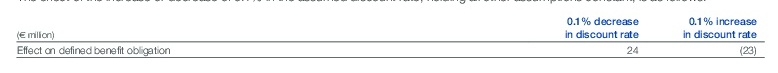table: (0, 0, 778, 73)
